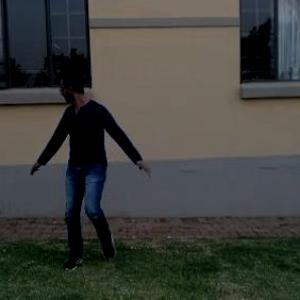land: (22, 54, 149, 274)
